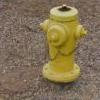Hydrant: (33, 1, 88, 91)
